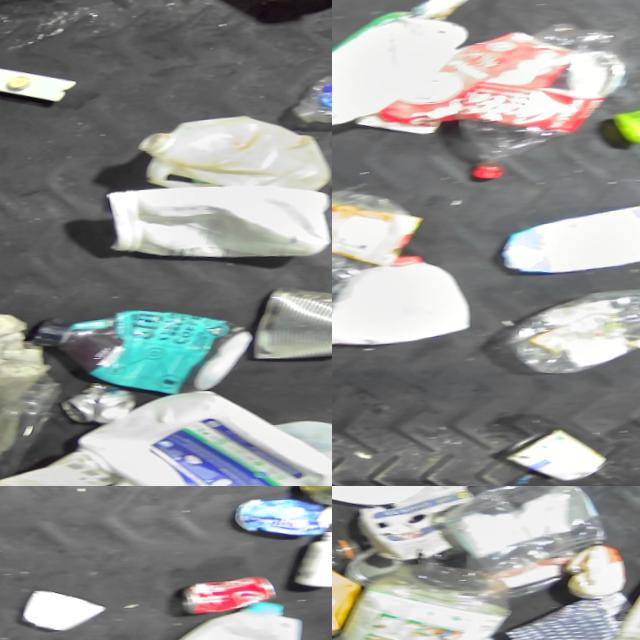can: (254, 287, 332, 363), (162, 572, 280, 621), (508, 428, 604, 486), (231, 492, 332, 542)
milk_jug: (79, 390, 332, 486), (111, 180, 332, 268), (132, 113, 330, 196), (332, 258, 479, 347), (138, 602, 304, 640), (286, 416, 332, 486)
non_white_jug: (36, 307, 250, 403)
plastic_bottle: (468, 26, 626, 177), (332, 174, 432, 315), (500, 290, 640, 385)
